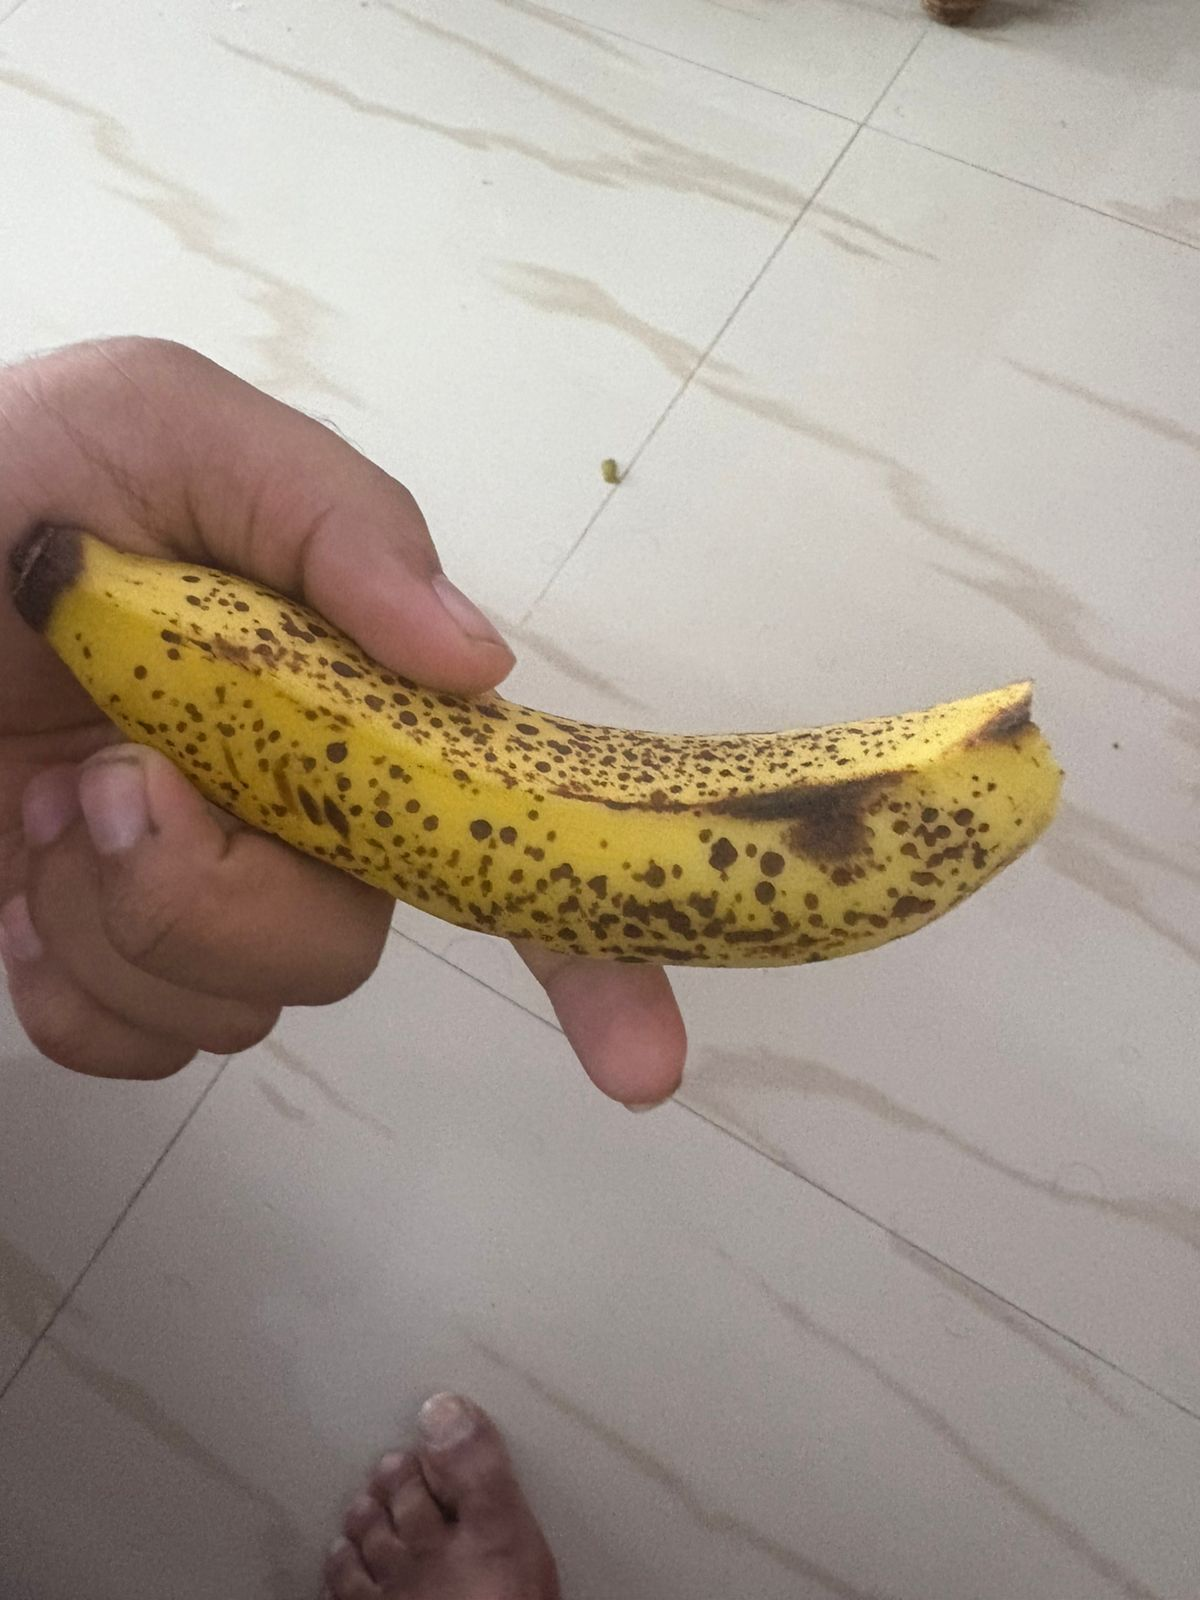wet: (28, 571, 1089, 944)
